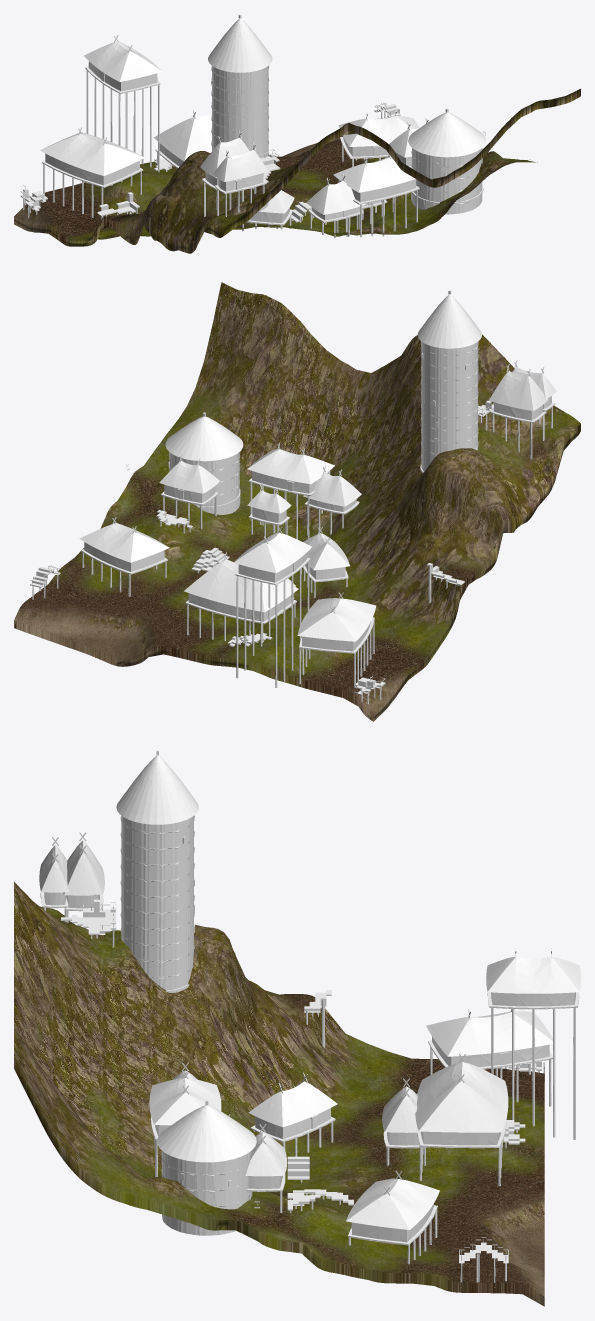
Rendered from chunk_2_2.glb.
3 renders of one model, top to bottom at view 1: azimuth 30°, elevation 25°; view 2: azimuth 150°, elevation 25°; view 3: azimuth 270°, elevation 25°, orthographic. The views are drawn at different scales.
Parts seen in each view (by area): view 1: Buildings_L0, Buildings_L1, Terrain_L0, Terrain_L2, Terrain_L1; view 2: Terrain_L2, Terrain_L0, Buildings_L0, Terrain_L1, Buildings_L1; view 3: Terrain_L2, Buildings_L0, Terrain_L0, Buildings_L1, Terrain_L1.
Part boxes in pixels (x1=…): Buildings_L0: x1=20, y1=15, x2=485, y2=237; Buildings_L1: x1=23, y1=14, x2=485, y2=237; Terrain_L0: x1=14, y1=88, x2=580, y2=253; Terrain_L2: x1=14, y1=89, x2=580, y2=252; Terrain_L1: x1=14, y1=93, x2=579, y2=253; Terrain_L2: x1=20, y1=282, x2=580, y2=719; Terrain_L0: x1=14, y1=284, x2=580, y2=721; Buildings_L0: x1=30, y1=294, x2=555, y2=704; Terrain_L1: x1=14, y1=293, x2=580, y2=721; Buildings_L1: x1=30, y1=290, x2=556, y2=704; Terrain_L2: x1=14, y1=882, x2=544, y2=1303; Buildings_L0: x1=39, y1=751, x2=580, y2=1287; Terrain_L0: x1=14, y1=881, x2=544, y2=1306; Buildings_L1: x1=39, y1=750, x2=580, y2=1286; Terrain_L1: x1=14, y1=886, x2=544, y2=1305.
Size of the model in its own units: 96.67 by 78.85 by 103.
Materials: 4 (1 with a texture image).
